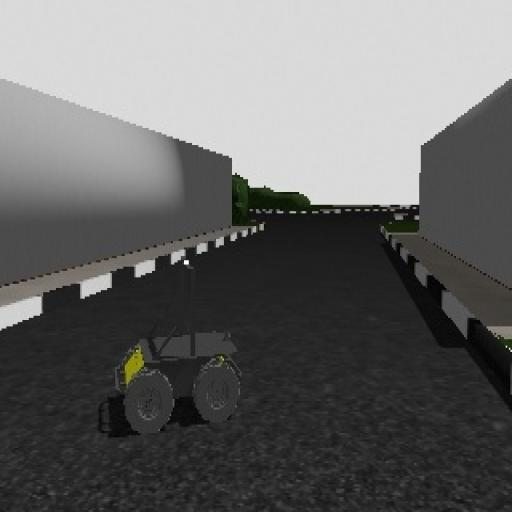huskya200: (105, 249, 265, 449)
